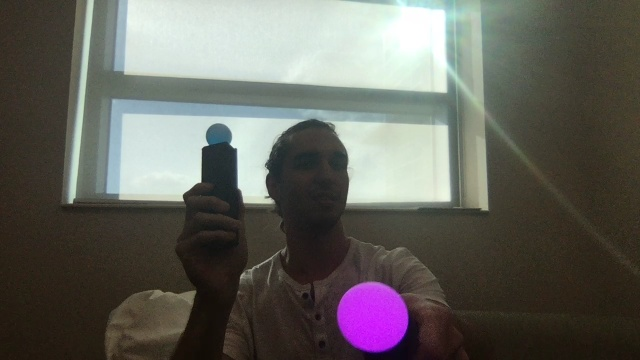wand: (338, 281, 410, 352), (207, 124, 233, 146)
